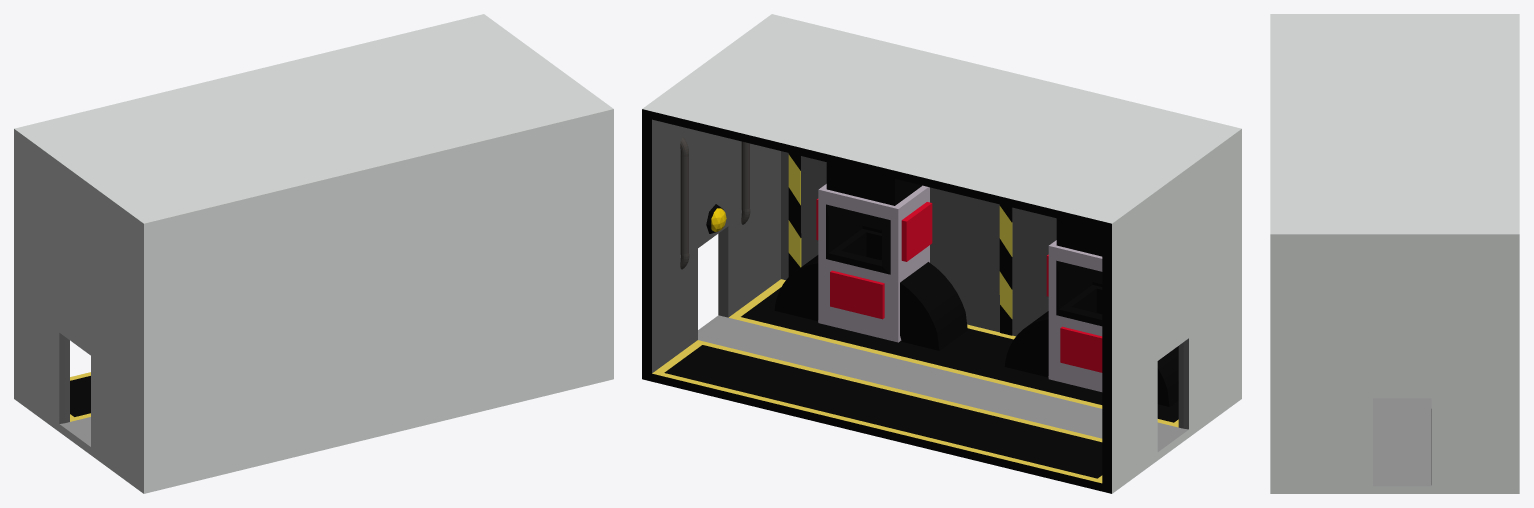
Rendered from PodRoom.fbx.
3 views of the same model, side by side, from view 1: azimuth 30°, elevation 25°; view 2: azimuth 150°, elevation 25°; view 3: azimuth 270°, elevation 25° (orthographic). The views are drawn at different scales.
Parts seen in each view (by area): view 1: Pod; view 2: Pod; view 3: Pod.
Part boxes in pixels (x1,y1,x2,y2): Pod: [14, 14, 613, 493]; Pod: [642, 14, 1241, 493]; Pod: [1270, 14, 1519, 493].
Size of the model in its own units: 1806 by 992 by 864.
